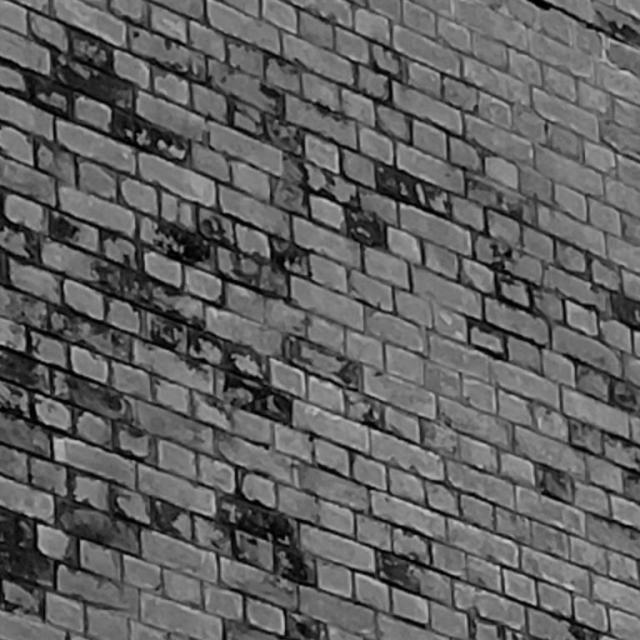crack: (526, 0, 640, 49)
